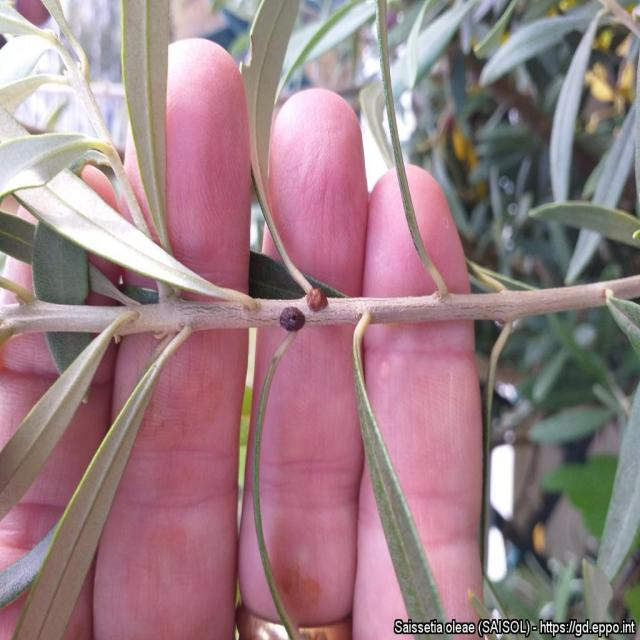Black Scale: (279, 306, 306, 332), (305, 288, 329, 312)
